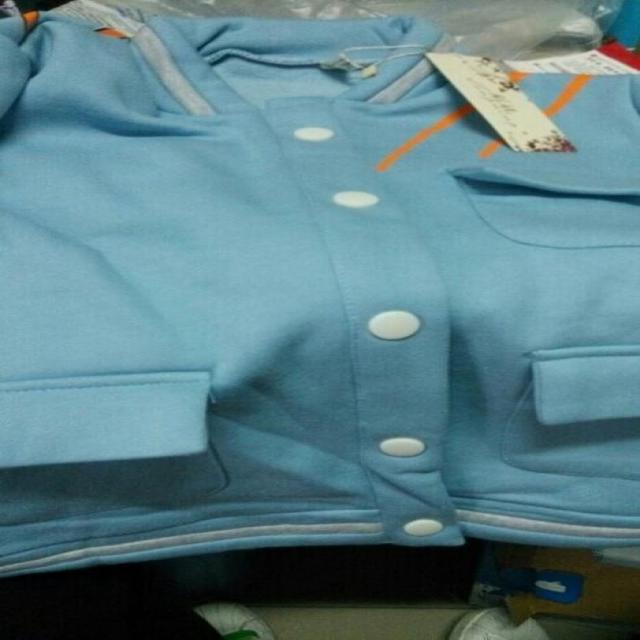long sleeve top: (0, 17, 636, 577)
